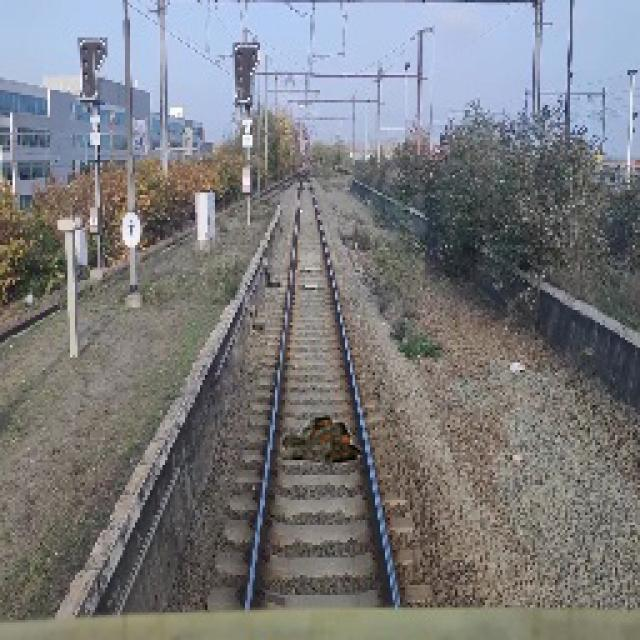danger: (277, 410, 365, 475)
rail: (183, 167, 449, 616)
